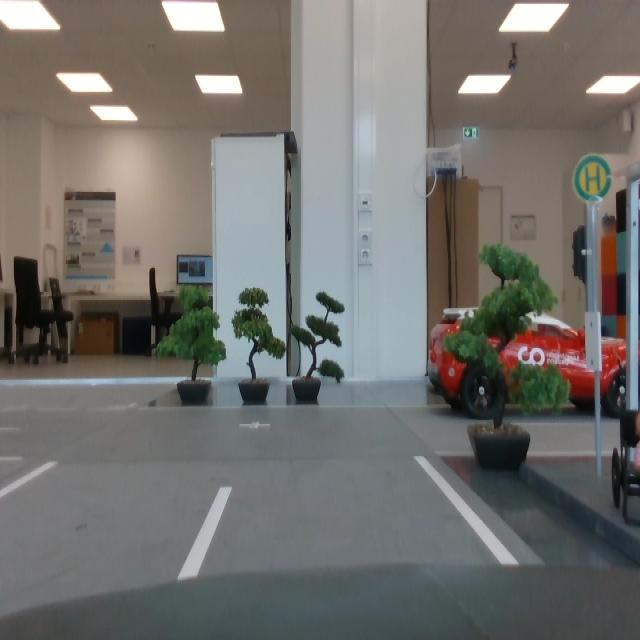car: (428, 306, 639, 420)
potted plant: (441, 244, 572, 466), (155, 284, 227, 405), (231, 286, 287, 405), (290, 290, 345, 401)
traffic light: (573, 227, 589, 288)
